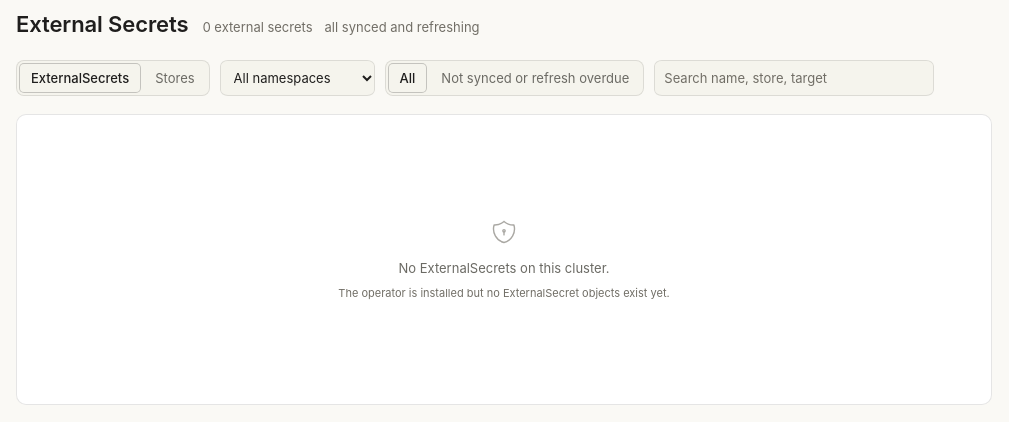
Test: ExternalSecretsView per-kind dataset + selection lifecycle (Codex c9231c13) › one store kind pending while the other is loaded: a lower bound, never all-ready
Click the button "Stores".
click(175, 78)  # box [143,63,207,93]
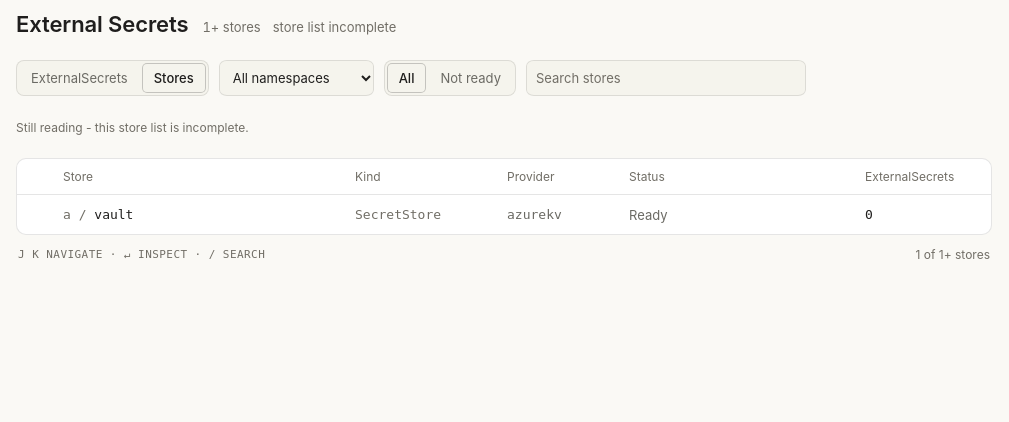
Check: the text "1+ stores" is shown, box [202,18,261,36]
Check: the text "store list incomplete" is shown, box [273,18,396,36]
